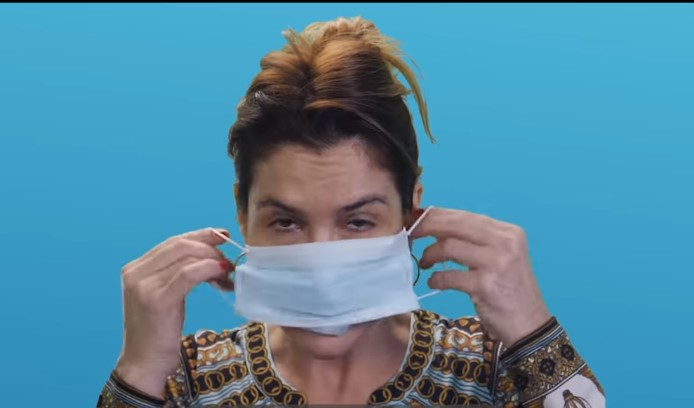face_with_mask: (235, 38, 419, 359)
